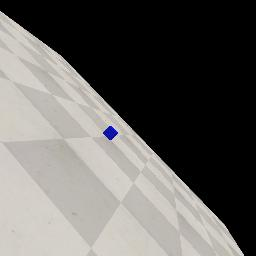box: (103, 126, 118, 140)
